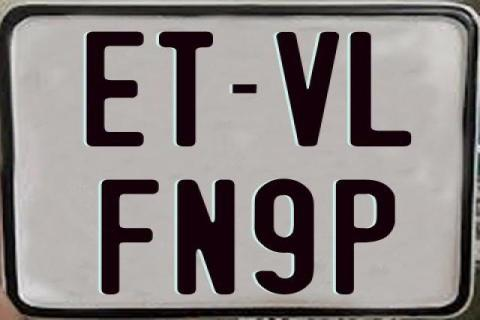0: (253, 179, 318, 295)
E: (86, 32, 148, 152)
F: (101, 180, 160, 296)
L: (350, 32, 412, 151)
N: (177, 178, 236, 298)
P: (334, 178, 396, 298)
T: (156, 32, 214, 150)
V: (275, 30, 343, 148)
